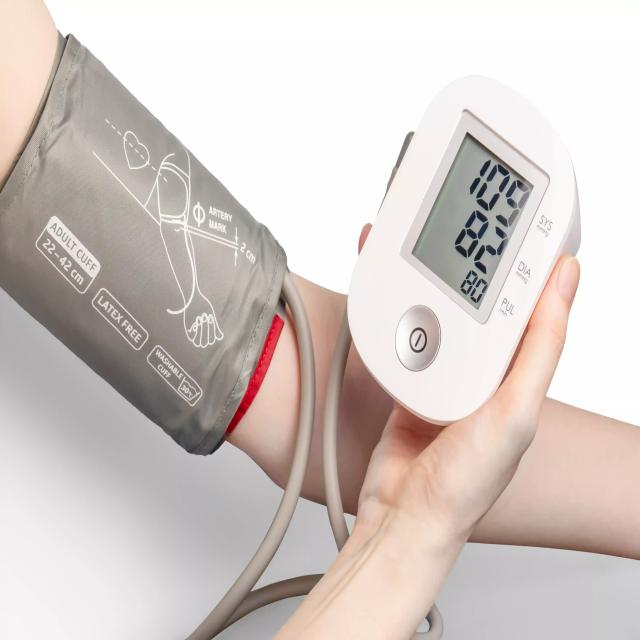dia: (439, 201, 522, 283)
pul: (448, 261, 497, 310)
ssd: (400, 131, 544, 314)
sys: (453, 150, 542, 235)
